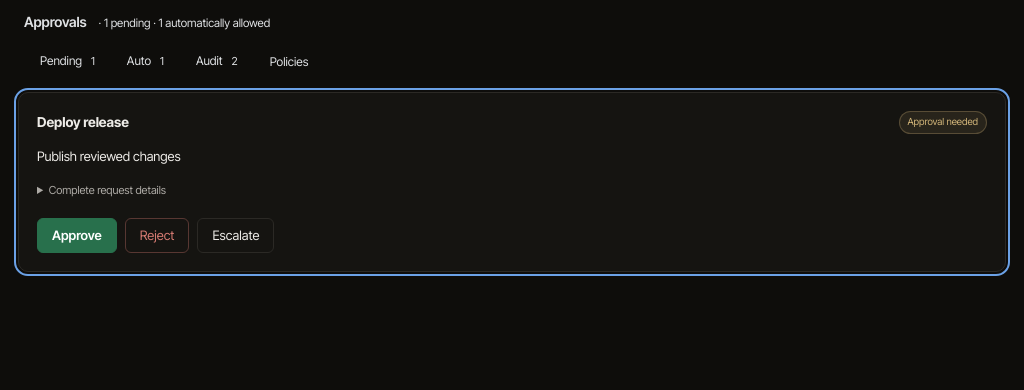
Scenario: GatingInboxPanel shared resource › preserves pending selection and audit access after viewing unavailable policies
Step 1. Click the button with test id "gating-tab:policies" → (289, 62), box [254,44,324,80]
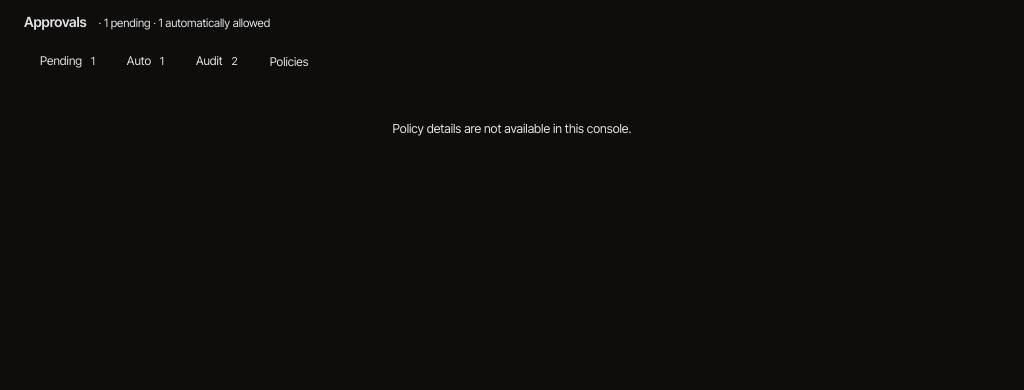
Step 2. Click the button with test id "gating-tab:audit" → (217, 62), box [180,44,254,80]
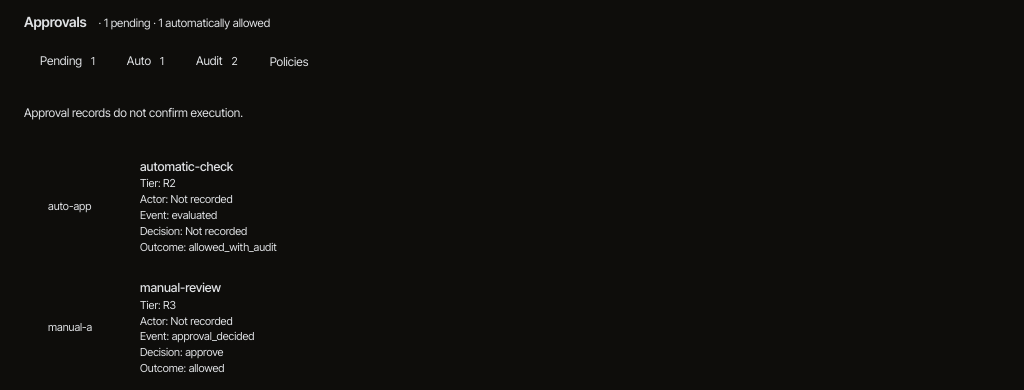
Check: the text "automatic-check" is shown, box [140,159,233,174]
Check: the text "manual-review" is shown, box [140,280,221,295]
Step 3. Click the button with test id "gating-tab:auto" → (145, 62), box [111,44,180,80]
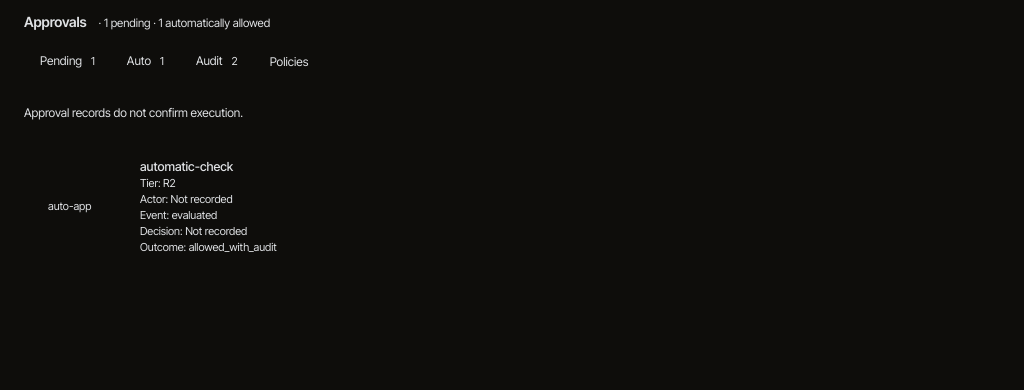
Check: the text "automatic-check" is shown, box [140,159,233,174]
Check: the text "manual-review" is gone
Step 4. Click the button with test id "gating-tab:pending" → (67, 62), box [24,44,111,80]
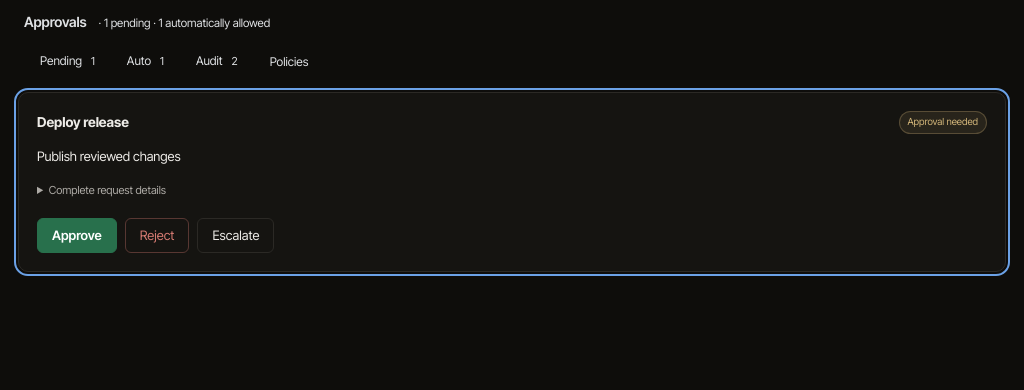
Check: the text "Publish reviewed changes" is shown, box [37,148,181,164]
